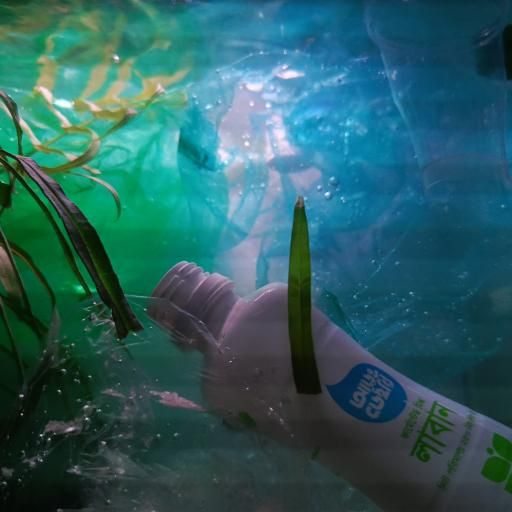plastic_bag: (184, 50, 512, 374), (0, 296, 353, 512), (0, 88, 234, 348)
plastic_bottle: (141, 258, 512, 511)
plastic_cup: (361, 0, 512, 206)
